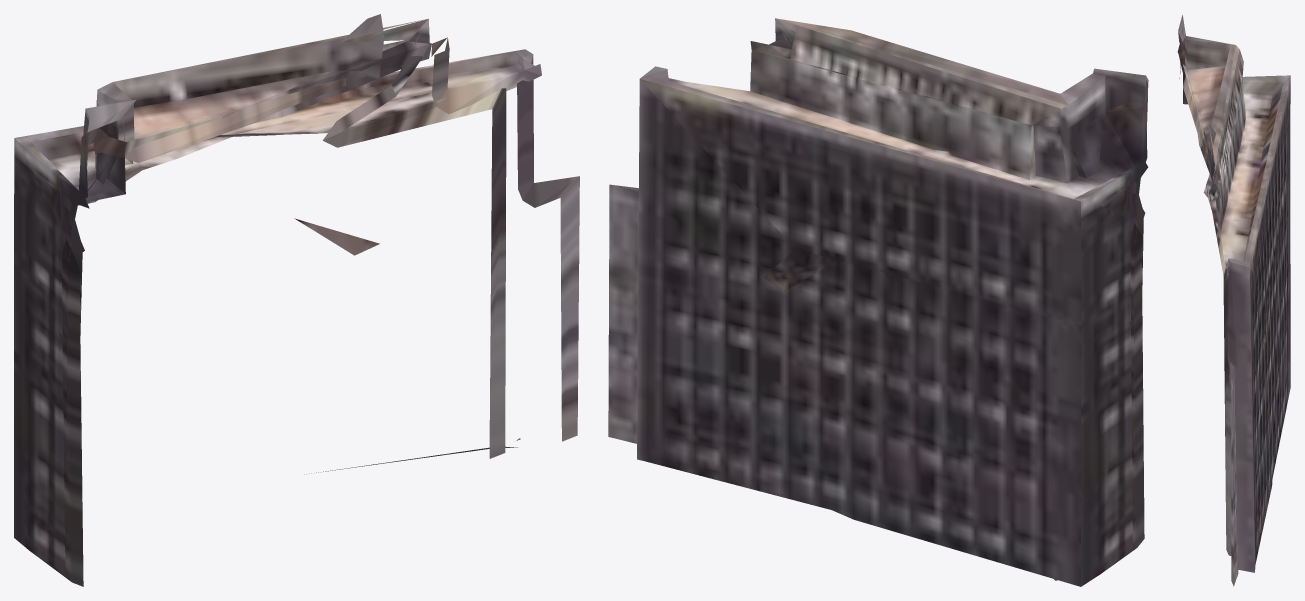
The picture shows the model from 3 angles, left to right: view 1: azimuth 30°, elevation 25°; view 2: azimuth 150°, elevation 25°; view 3: azimuth 270°, elevation 25°; orthographic projection. The views are drawn at different scales.
Visible parts, largest first — view 1: Mesh_0; view 2: Mesh_0; view 3: Mesh_0.
Part boxes in pixels (box(x1,y1,x2,y2)): Mesh_0: box(14, 14, 579, 586); Mesh_0: box(608, 18, 1148, 586); Mesh_0: box(1177, 15, 1290, 586).
Size of the model in its own units: 28.39 by 24.82 by 6.74.
Materials: 1 (1 with a texture image).
